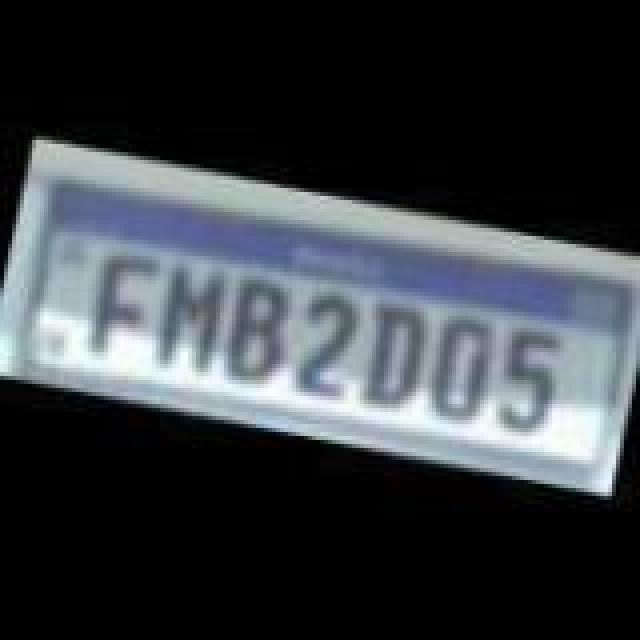2: (284, 292, 364, 404)
5: (482, 322, 570, 442)
B: (214, 274, 298, 390)
D: (420, 300, 508, 428), (352, 296, 432, 412)
F: (76, 238, 164, 366)
M: (144, 262, 240, 378)
